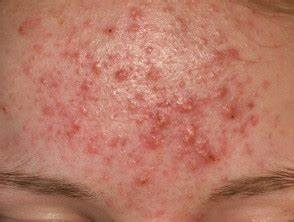Acne: (171, 92, 199, 113), (184, 120, 196, 149), (88, 59, 106, 78), (77, 102, 94, 122), (141, 41, 156, 57)
